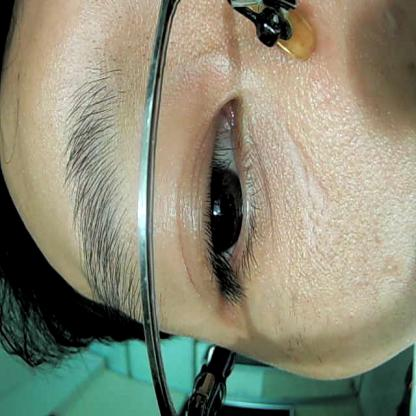Down: (178, 84, 264, 300)
